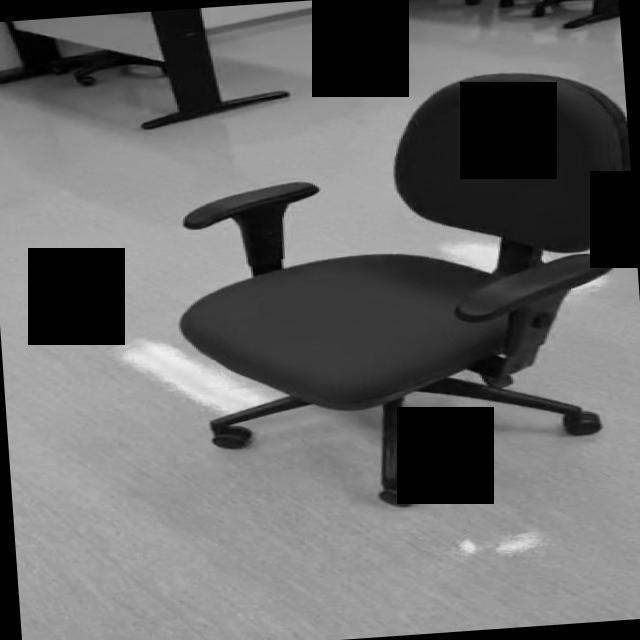chair: (162, 63, 640, 520)
